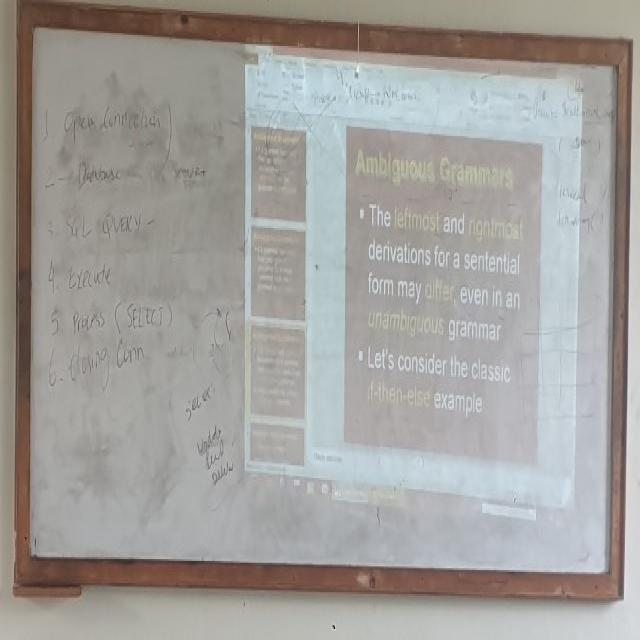Slide: (243, 25, 582, 539)
White-board: (20, 2, 622, 587)
